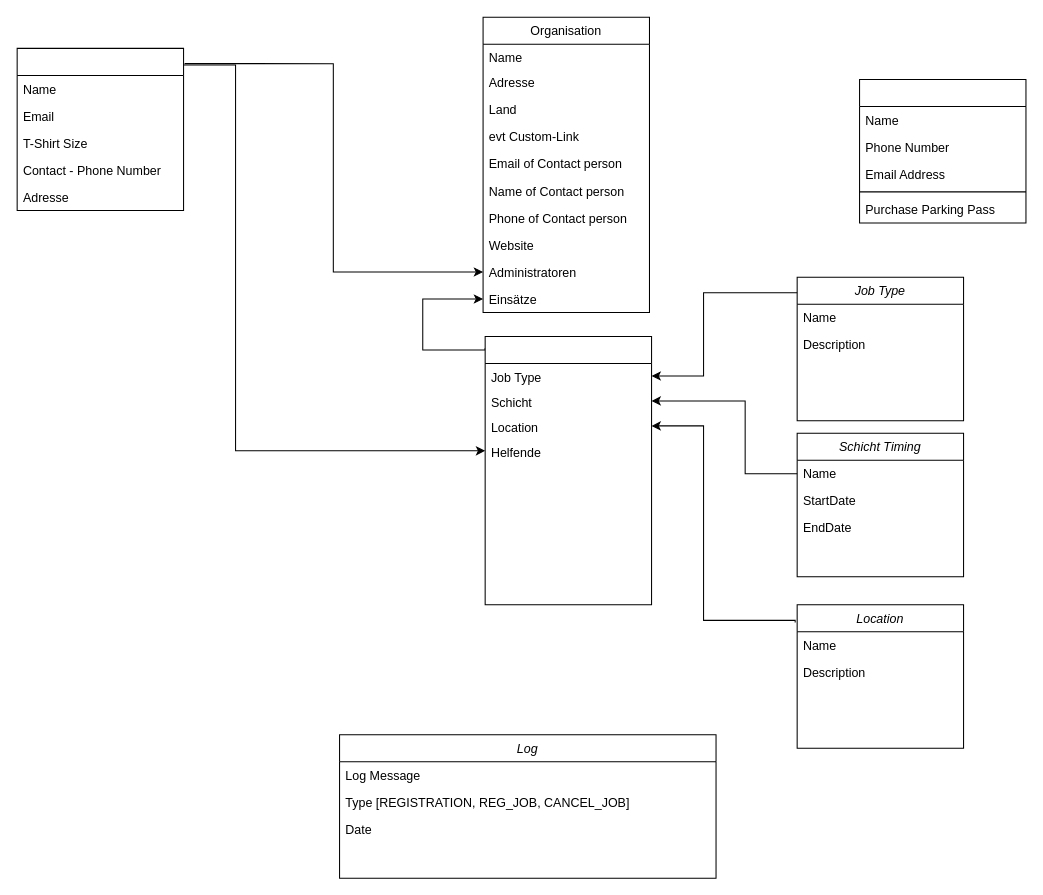
This 1043x895 diagram has some shape labels left out. Each missing label, with the box of its shape:
Benutzer: (16, 47, 184, 211)
Einsatz: (484, 335, 652, 605)
Person: (859, 79, 1026, 223)
